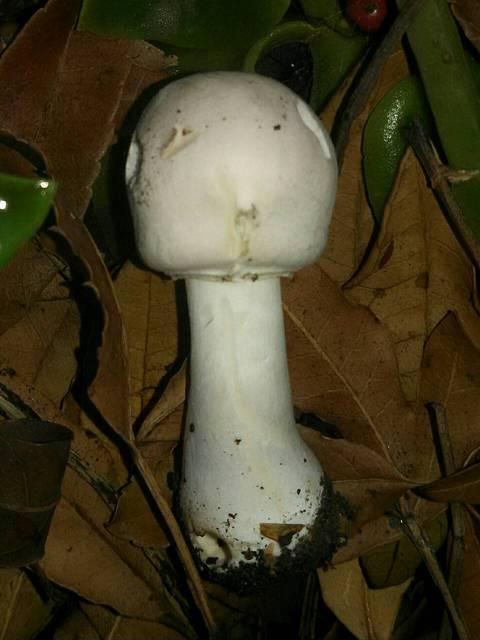poisonous_mushroom: (121, 68, 344, 592)
